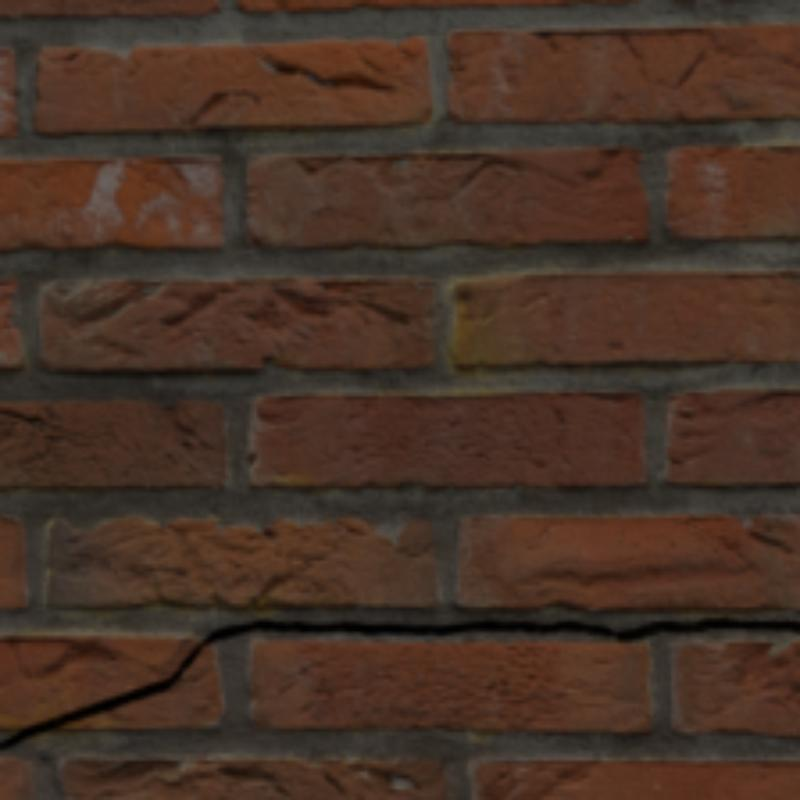pothole: (1, 619, 796, 748), (261, 54, 393, 89)
